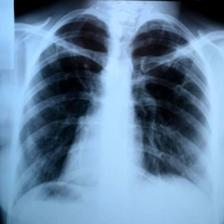tuberculosis: (6, 9, 221, 207)
